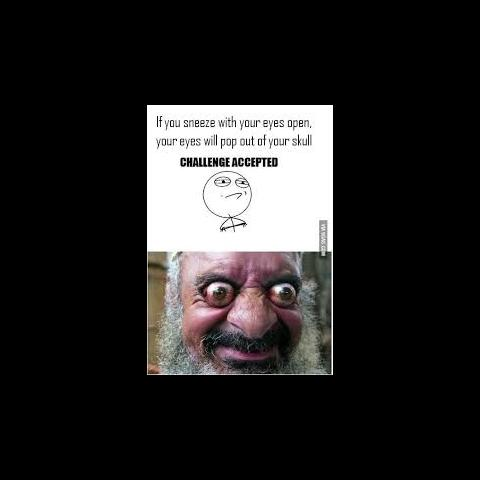opened: (183, 264, 304, 314)
